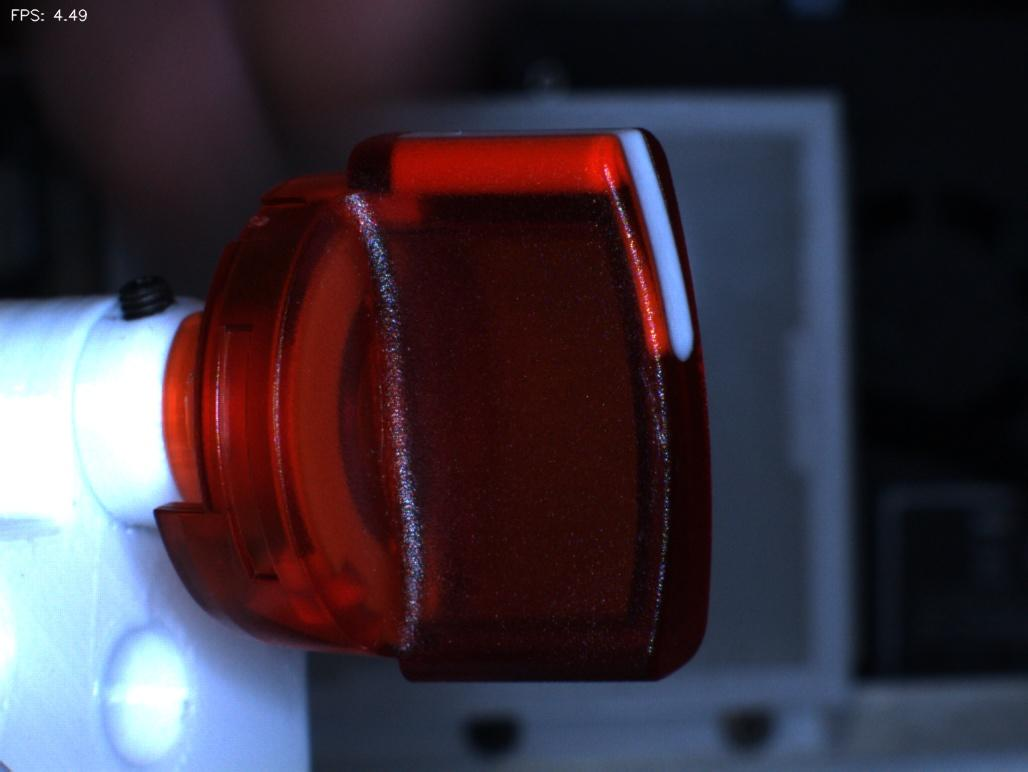Givrage: (594, 339, 681, 474)
